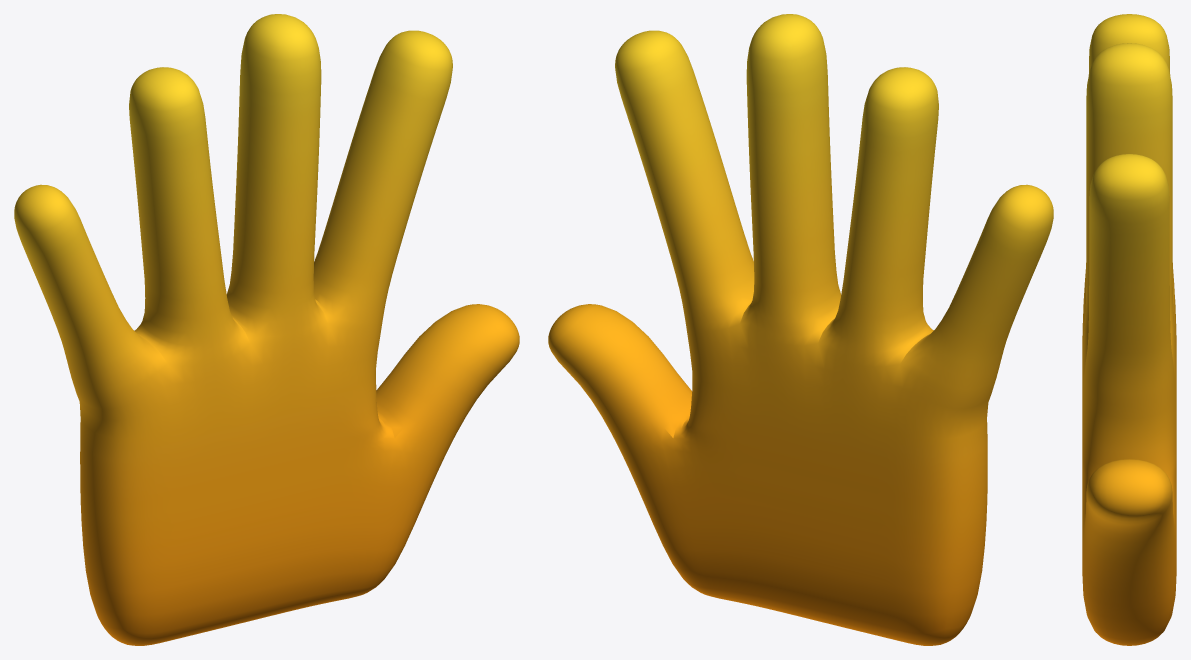
File: hand_with_fingers_splayed.fbx
The picture shows the model from 3 angles, left to right: view 1: azimuth 30°, elevation 25°; view 2: azimuth 150°, elevation 25°; view 3: azimuth 270°, elevation 25°; orthographic projection. The views are drawn at different scales.
Parts seen in each view (by area): view 1: Cube.082; view 2: Cube.082; view 3: Cube.082.
Boxes of the visible parts, x1,y1,x2,y2 form: Cube.082: (14, 14, 519, 645); Cube.082: (548, 14, 1053, 645); Cube.082: (1082, 14, 1176, 645).
Bounding box in the file's own units: 186 × 213 × 32.25.
2 materials, 2 textured.
